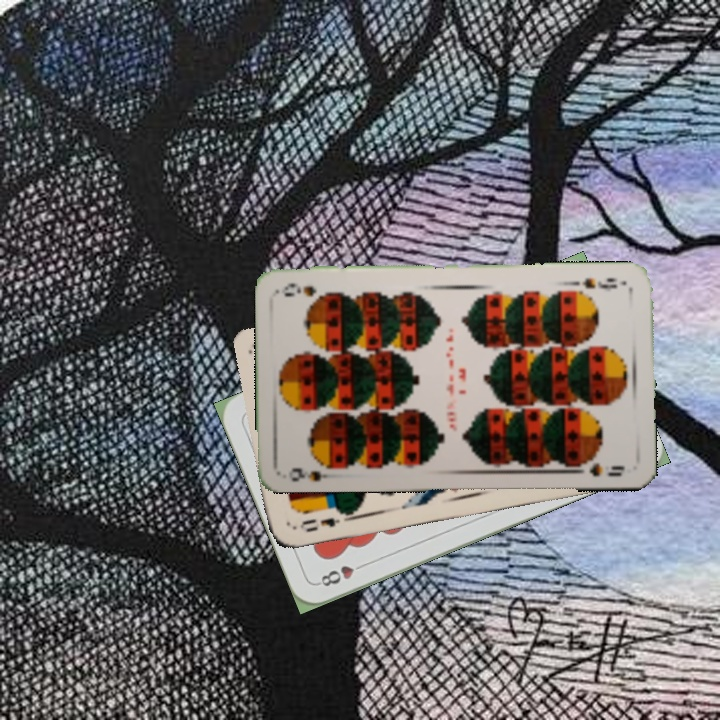EO: (295, 506, 349, 535)
H8: (314, 558, 370, 589)
S9: (288, 457, 340, 484), (579, 274, 620, 294)
